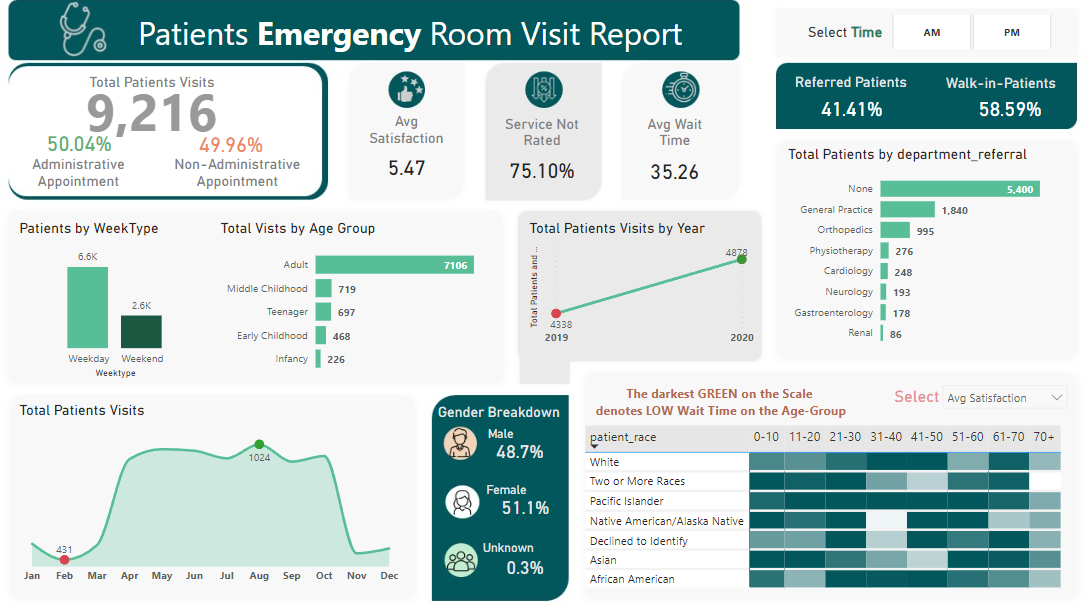

What the dashboard file says about the page in this screenshot:
{"tool":"powerbi","page":{"name":"Page 1","canvas":[1280,720],"ordinal":0},"visuals":[{"type":"card","fields":{"Values":["Calculations.Total Patients"]},"box":[85,86.4,186.5,85],"z":0},{"type":"card","fields":{"Values":["Calculations.% Adminstrative Scedule"]},"box":[45.2,152.2,94.6,37],"z":1000},{"type":"card","fields":{"Values":["Calculations.% NonAdminstrative Scedule"]},"box":[227.6,152.2,87.7,38.4],"z":2000},{"type":"pivotTable","fields":{"Values":["Calculations.Average Satisfaction Score"],"Rows":["Patients Dataset.patient_race"],"Columns":["Patients Dataset.Age Bucket"]},"box":[684.2,497.7,581.3,208.4],"z":3000},{"type":"slicer","fields":{"Values":["Parameter.Parameter"]},"box":[1098.2,444.2,167.3,52.1],"z":4000},{"type":"barChart","title":"Total Vists by Age Group","fields":{"Category":["Patients Dataset.Age Group"],"Y":["CountNonNull(Patients Dataset.Age Bucket)"]},"box":[255,259.1,331.8,191.9],"z":5000},{"type":"areaChart","title":"Total Patients Visits","fields":{"Category":["Date.Month"],"Y":["Calculations.Total Patients","Calculations.Values max point(Month)"]},"box":[17.8,473,460.7,223.5],"z":6000},{"type":"slicer","fields":{"Values":["Patients Dataset.Moment"]},"box":[1030.1,16.2,226.2,44.4],"z":7000},{"type":"lineChart","title":"Total Patients Visits by Year","fields":{"Y":["Calculations.Total Patients","Calculations.Values max point(Year)"],"Category":["Date.Year"]},"box":[618.3,259.1,274.2,157.7],"z":8000},{"type":"clusteredBarChart","fields":{"Category":["Patients Dataset.department_referral"],"Y":["Calculations.Total Patients"]},"box":[922.7,171.4,342.8,245.4],"z":9000},{"type":"card","fields":{"Values":["Calculations.% Refrred Patients"]},"box":[939.2,113.8,124.8,32.9],"z":10000},{"type":"card","fields":{"Values":["Calculations.% Un Refrred Patients"]},"box":[1131.1,113.8,113.8,32.9],"z":11000},{"type":"card","fields":{"Values":["Calculations.Heatmap Caption"]},"box":[695.1,442.8,305.7,63.1],"z":12000},{"type":"textbox","box":[23.3,179.6,137.1,59],"z":13000},{"type":"textbox","box":[196.1,179.6,167.3,59],"z":14000},{"type":"card","title":"Avg Satisfaction","fields":{"Values":["Calculations.Average Satisfaction Score"]},"box":[419.5,134.4,117.9,90.5],"z":15000},{"type":"card","title":"Avg Wait Time","fields":{"Values":["Calculations.Average Wait Time"]},"box":[737.6,137.1,111.1,93.2],"z":16000},{"type":"card","title":"Service Not Rated","fields":{"Values":["Calculations.% No Rating"]},"box":[577.2,137.1,119.3,90.5],"z":17000},{"type":"textbox","box":[922.7,82.3,157.7,37],"z":18000},{"type":"textbox","box":[1098.2,83.6,157.7,37],"z":19000},{"type":"clusteredColumnChart","title":"Patients by WeekType","fields":{"Y":["Calculations.Total Patients"],"Category":["Date.Weektype"]},"box":[17.8,259.1,237.2,191.9],"z":20000},{"type":"card","fields":{"Values":["Calculations.% Female Visit"]},"box":[573.1,516.9,76.8,31.5],"z":21000},{"type":"card","fields":{"Values":["Calculations.% Male Visit"]},"box":[573.1,582.7,89.1,31.5],"z":22000},{"type":"card","fields":{"Values":["Calculations.% Unknown"]},"box":[573.1,652.6,89.1,31.5],"z":23000},{"type":"textbox","box":[85,82.3,186.5,37],"z":24000},{"type":"textbox","box":[505.9,470.3,161.8,37],"z":25000},{"type":"textbox","box":[556.6,497.7,63.1,27.4],"z":26000},{"type":"textbox","box":[556.6,563.5,76.8,27.4],"z":27000},{"type":"textbox","box":[559.4,630.7,78.1,27.4],"z":28000},{"type":"textbox","box":[1039.3,451.1,78.1,34.3],"z":29000},{"type":"textbox","box":[133.3,9.4,697.5,59.2],"z":30000},{"type":"textbox","box":[938.5,24.2,111.8,36.4],"z":30001}]}

Visuals, with their boxes in screenshot pixels (x1, y1, x2, y2), scaled from the page's 1280x720 canvas onto the 1084x605 screenshot:
card - Calculations.Total Patients: (left=72, top=73, right=230, bottom=144)
card - Calculations.% Adminstrative Scedule: (left=38, top=128, right=118, bottom=159)
card - Calculations.% NonAdminstrative Scedule: (left=193, top=128, right=267, bottom=160)
pivotTable - Calculations.Average Satisfaction Score x Patients Dataset.patient_race: (left=579, top=418, right=1072, bottom=593)
slicer - Parameter.Parameter: (left=930, top=373, right=1072, bottom=417)
"Total Vists by Age Group" barChart: (left=216, top=218, right=497, bottom=379)
"Total Patients Visits" areaChart: (left=15, top=397, right=405, bottom=585)
slicer - Patients Dataset.Moment: (left=872, top=14, right=1064, bottom=51)
"Total Patients Visits by Year" lineChart: (left=524, top=218, right=756, bottom=350)
clusteredBarChart - Patients Dataset.department_referral x Calculations.Total Patients: (left=781, top=144, right=1072, bottom=350)
card - Calculations.% Refrred Patients: (left=795, top=96, right=901, bottom=123)
card - Calculations.% Un Refrred Patients: (left=958, top=96, right=1054, bottom=123)
card - Calculations.Heatmap Caption: (left=589, top=372, right=848, bottom=425)
textbox: (left=20, top=151, right=136, bottom=200)
textbox: (left=166, top=151, right=308, bottom=200)
"Avg Satisfaction" card: (left=355, top=113, right=455, bottom=189)
"Avg Wait Time" card: (left=625, top=115, right=719, bottom=194)
"Service Not Rated" card: (left=489, top=115, right=590, bottom=191)
textbox: (left=781, top=69, right=915, bottom=100)
textbox: (left=930, top=70, right=1064, bottom=101)
"Patients by WeekType" clusteredColumnChart: (left=15, top=218, right=216, bottom=379)
card - Calculations.% Female Visit: (left=485, top=434, right=550, bottom=461)
card - Calculations.% Male Visit: (left=485, top=490, right=561, bottom=516)
card - Calculations.% Unknown: (left=485, top=548, right=561, bottom=575)
textbox: (left=72, top=69, right=230, bottom=100)
textbox: (left=428, top=395, right=565, bottom=426)
textbox: (left=471, top=418, right=525, bottom=441)
textbox: (left=471, top=473, right=536, bottom=497)
textbox: (left=474, top=530, right=540, bottom=553)
textbox: (left=880, top=379, right=946, bottom=408)
textbox: (left=113, top=8, right=704, bottom=58)
textbox: (left=795, top=20, right=889, bottom=51)
